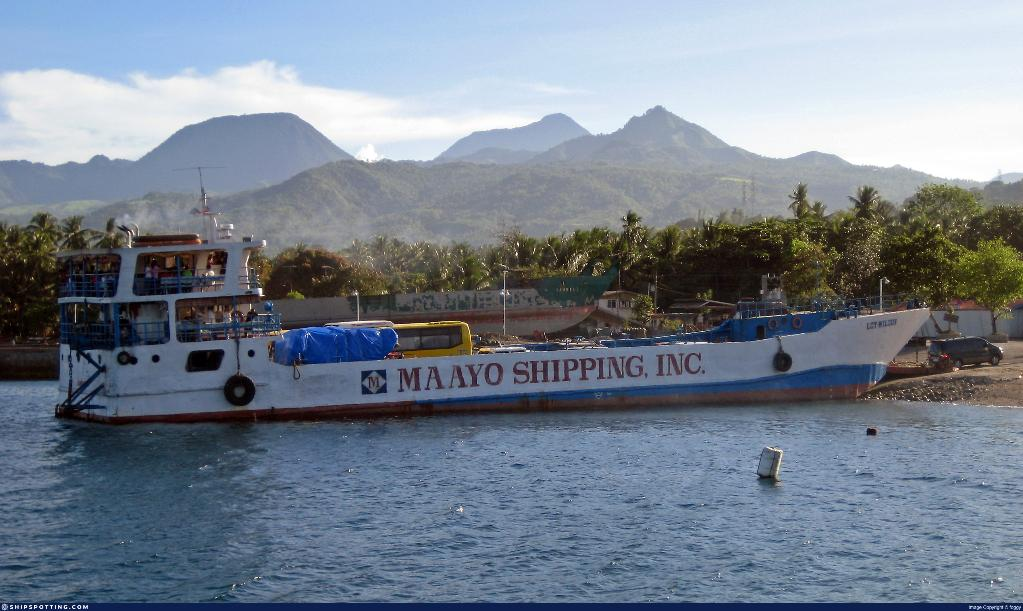PassengerShip: (47, 203, 928, 418)
